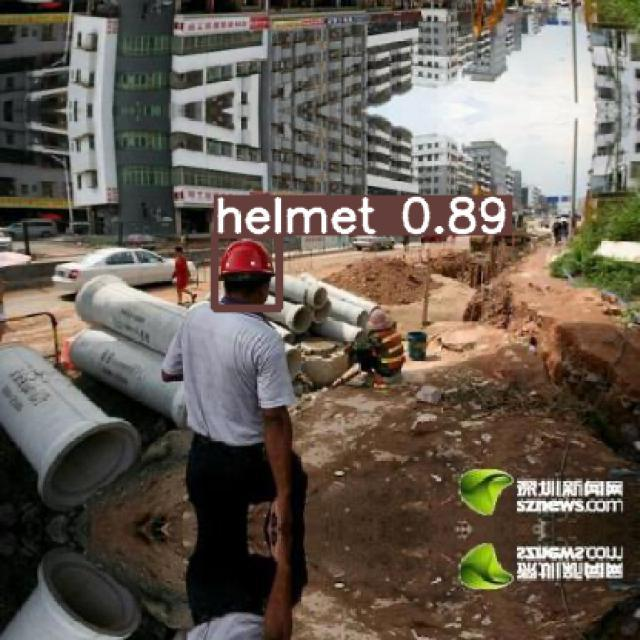Helmet: (217, 238, 275, 281)
